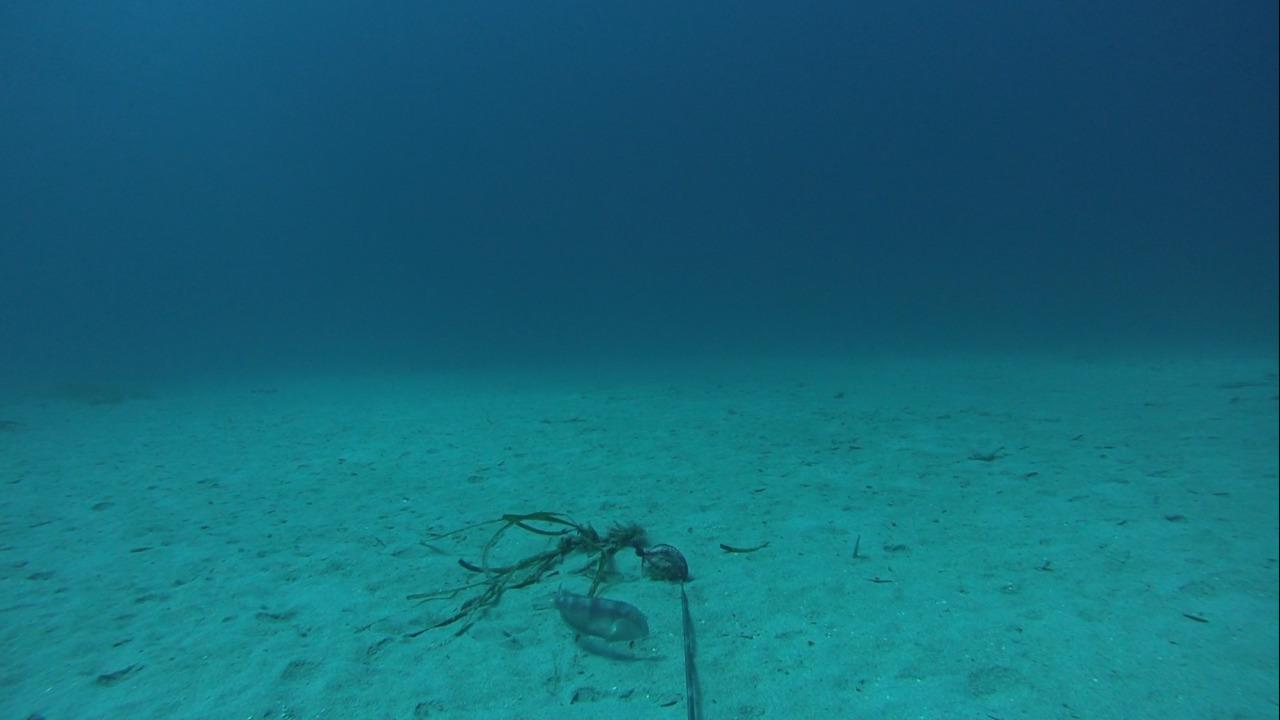raor: (543, 579, 654, 650)
